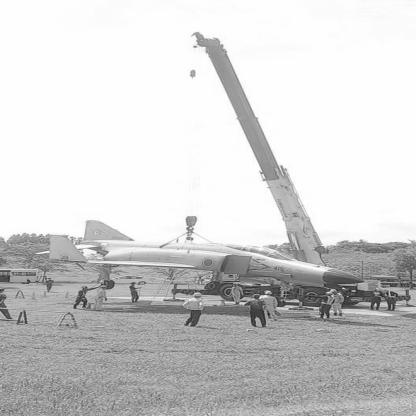F4: (35, 221, 384, 308)
